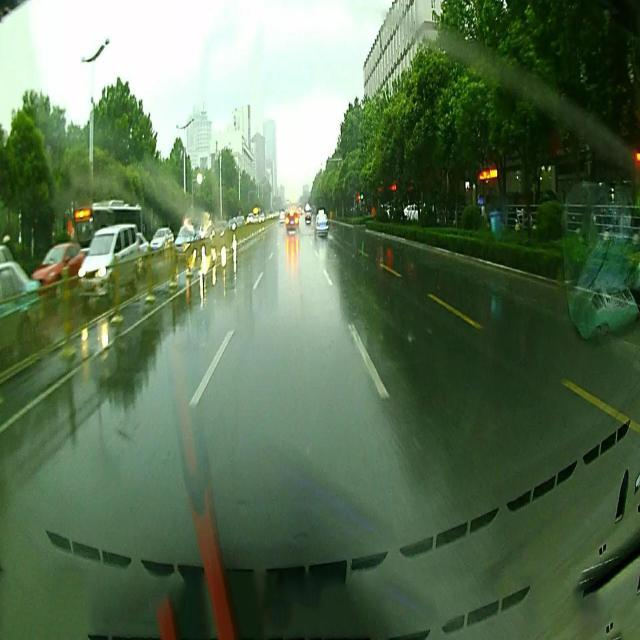car: (0, 236, 46, 364), (76, 222, 142, 307), (33, 232, 86, 298), (172, 212, 199, 260), (148, 230, 176, 250), (282, 208, 302, 234), (314, 210, 328, 242), (302, 204, 312, 222)
